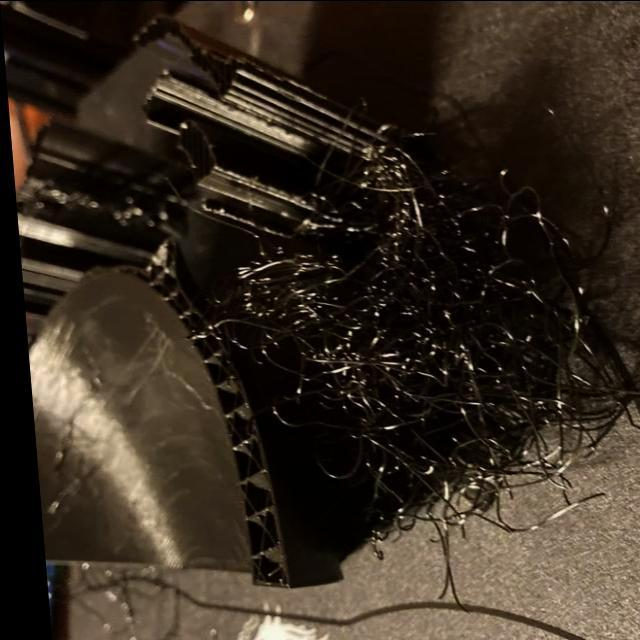spaghetti: (240, 232, 411, 387), (454, 211, 572, 409), (341, 414, 510, 526), (346, 141, 464, 247)
